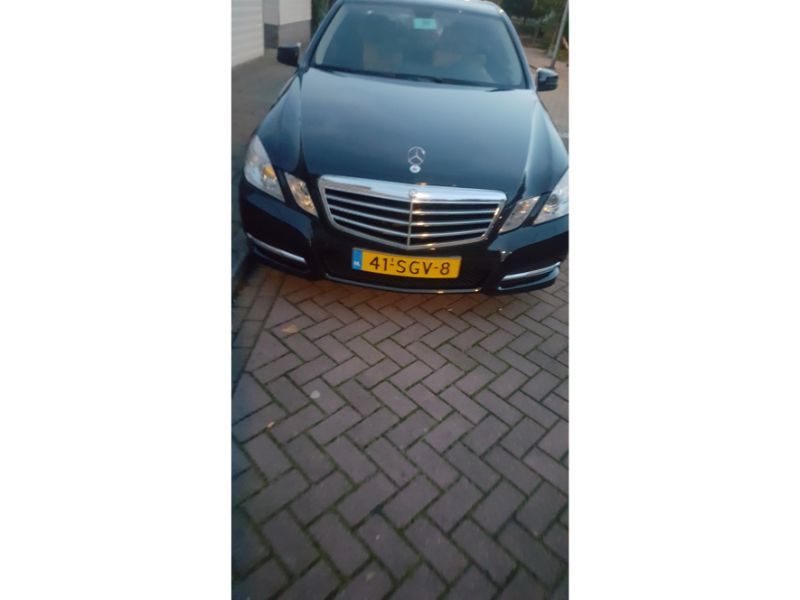kenteken: (347, 245, 466, 287)
